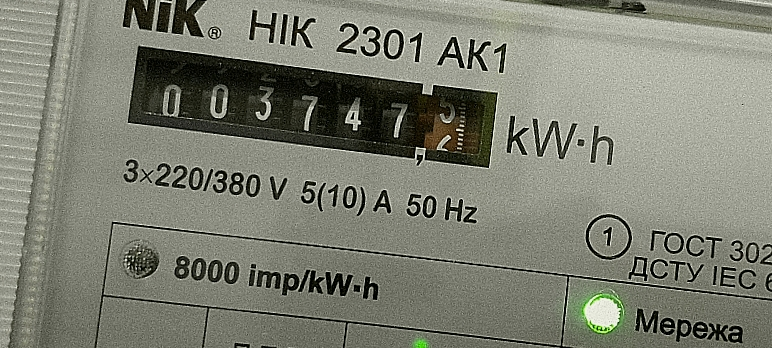0: (206, 79, 230, 120), (158, 80, 184, 117)
3: (252, 83, 275, 122)
4: (340, 92, 365, 134)
5: (435, 94, 458, 125)
6: (432, 129, 453, 152)
7: (383, 97, 410, 140), (295, 91, 319, 132)
screen: (116, 33, 514, 184)
